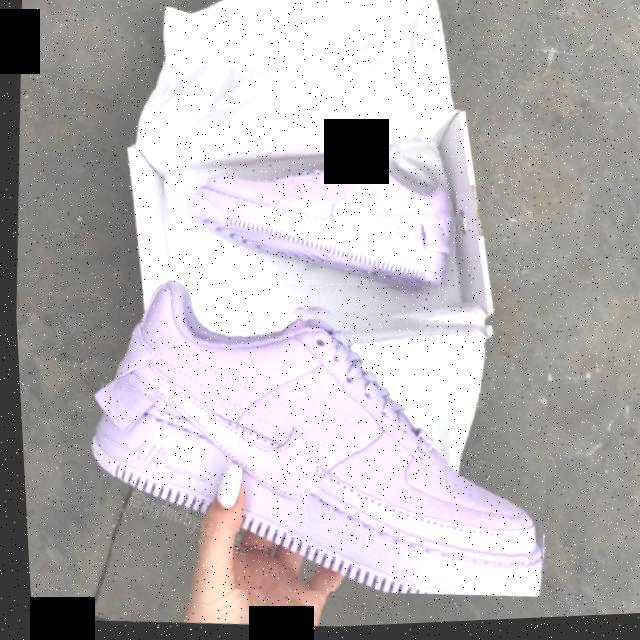shoe: (92, 279, 558, 617), (176, 136, 461, 302)
